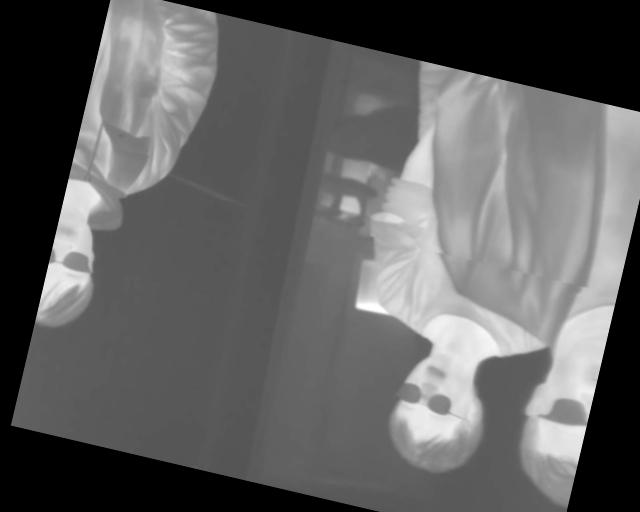face: (376, 348, 497, 485), (35, 212, 107, 335)
